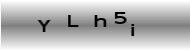5: (113, 10, 128, 25)
L: (66, 14, 79, 28)
Y: (36, 18, 51, 32)
h: (93, 14, 107, 28)
i: (129, 23, 135, 37)
